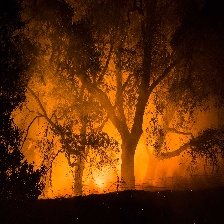fire: (92, 164, 114, 192)
